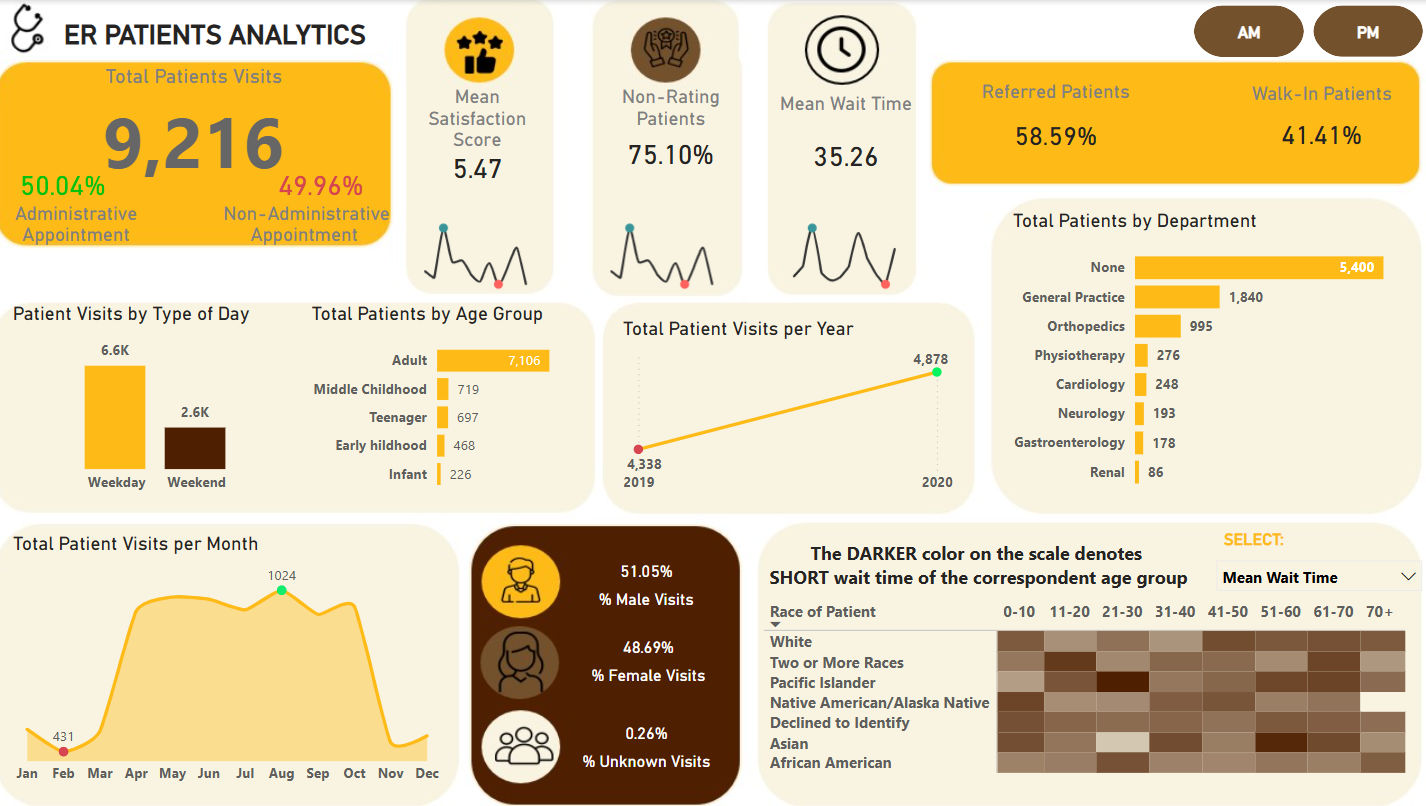

The page's visual inventory and layout, read from the dashboard file:
{"tool":"powerbi","page":{"name":"Page 1","canvas":[1280,720],"ordinal":0},"visuals":[{"type":"pivotTable","fields":{"Values":["Calculations.Mean Wait Time"],"Rows":["Patients Dataset.patient_race"],"Columns":["Patients Dataset.Age Bucket"]},"box":[678.8,529.3,587.6,191.2],"z":0},{"type":"slicer","fields":{"Values":["Satisfaction/Wait.Satisfaction/Wait"]},"box":[1076.4,488.8,203.9,60.8],"z":1000},{"type":"barChart","fields":{"Category":["Patients Dataset.Age Group"],"Y":["Calculations.Total Patients"]},"box":[276.3,269,253.4,178.6],"z":2000},{"type":"lineChart","title":"Total Patient Visits per Month","fields":{"Category":["Date.Month"],"Y":["Calculations.Total Patients","Calculations.Values Min/Max Point (Month)"]},"box":[9.7,474.1,392.1,232.8],"z":3000},{"type":"lineChart","title":"Total Patient Visits per Year","fields":{"Category":["Date.Year"],"Y":["Calculations.Total Patients"]},"box":[553.8,282.3,304,165.3],"z":4000},{"type":"clusteredBarChart","title":"Total Patients by Department","fields":{"Y":["Calculations.Total Patients"],"Category":["Patients Dataset.department_referral"]},"box":[900.4,186.2,377.4,260.9],"z":5000},{"type":"card","fields":{"Values":["Calculations.Heatmap Caption"]},"box":[678.8,466,392.6,73.4],"z":6000},{"type":"card","title":"Mean Satisfaction Score","fields":{"Values":["Calculations.Mean Satisfaction Score"]},"box":[364.3,76,129.1,90.5],"z":7000},{"type":"card","title":"Total Patients Visits","fields":{"Values":["Calculations.Total Patients"]},"box":[0,56.7,352.3,109.8],"z":8000},{"type":"card","title":"Mean Wait Time","fields":{"Values":["Calculations.Mean Wait Time"]},"box":[692.5,82,129.1,92.9],"z":9000},{"type":"card","fields":{"Values":["Calculations.Non-Aministrator %"]},"box":[240.1,133.9,97.7,62.7],"z":10000},{"type":"card","title":"Non-Rating Patients ","fields":{"Values":["Calculations.% of Non-Rating Patients"]},"box":[523.6,76,155.6,84.5],"z":11000},{"type":"card","fields":{"Values":["Calculations.% of Non-Referred Patients"]},"box":[846.9,82.3,193.2,75.8],"z":12000,"group":"g1"},{"type":"card","fields":{"Values":["Calculations.Aministrator %"]},"box":[9.7,136.3,97.7,56.7],"z":12000},{"type":"textbox","box":[872.6,66.4,141.8,69.7],"z":13000,"group":"g1"},{"type":"textbox","box":[0,174.9,142.4,70],"z":13000},{"type":"group","id":"g1","title":"Group 2","box":[846.9,66.4,430.7,91.7],"z":14000},{"type":"card","fields":{"Values":["Calculations.% of Referred Patients"]},"box":[1084.1,82.3,193,75],"z":14000,"group":"g1"},{"type":"textbox","box":[191.8,174.9,170.1,70],"z":15000},{"type":"textbox","box":[1086.6,67.6,188.3,69.7],"z":16000,"group":"g1"},{"type":"clusteredColumnChart","title":"Patient Visits by Type of Day","fields":{"Y":["Calculations.Total Patients"],"Category":["Date.Weektype"]},"box":[9.7,269,266.6,178.6],"z":16000},{"type":"advancedSlicerVisual","fields":{"Values":["Patients Dataset.AM/PM"]},"box":[1062.4,0,215.3,57],"z":17000},{"type":"card","fields":{"Values":["Calculations.% Female Visits"]},"box":[513.9,555,133.9,61.5],"z":18000},{"type":"card","fields":{"Values":["Calculations.% Male Visits"]},"box":[523.6,487.4,112.2,61.5],"z":19000},{"type":"card","fields":{"Values":["Calculations.% Unknown Gender Visits"]},"box":[507.9,633.4,143.6,59.1],"z":20000},{"type":"PBI_CV_25997FEB_F466_44FA_B562_AC4063283C4C","fields":{"measure":["Calculations.Mean Satisfaction Score"],"axis":["Date.Month"]},"box":[364.3,185.8,130.3,78.4],"z":21000},{"type":"PBI_CV_25997FEB_F466_44FA_B562_AC4063283C4C","fields":{"measure":["Calculations.Mean Satisfaction Score"],"axis":["Date.Month"]},"box":[529.6,185.8,130.3,78.4],"z":22000},{"type":"PBI_CV_25997FEB_F466_44FA_B562_AC4063283C4C","fields":{"axis":["Date.Month"],"measure":["Calculations.% of Non-Rating Patients"]},"box":[692.5,185.8,130.3,78.4],"z":23000},{"type":"textbox","box":[1089,466,76,41.8],"z":24000},{"type":"textbox","box":[55.7,12.7,300.1,44.3],"z":25000}]}

Visuals, with their boxes in screenshot pixels (x1, y1, x2, y2), scaled from the page's 1280x720 canvas onto the 1426x806 screenshot:
pivotTable - Calculations.Mean Wait Time x Patients Dataset.patient_race: locate(756, 593, 1411, 805)
slicer - Satisfaction/Wait.Satisfaction/Wait: locate(1199, 547, 1425, 615)
barChart - Patients Dataset.Age Group x Calculations.Total Patients: locate(308, 301, 590, 501)
"Total Patient Visits per Month" lineChart: locate(11, 531, 448, 791)
"Total Patient Visits per Year" lineChart: locate(617, 316, 956, 501)
"Total Patients by Department" clusteredBarChart: locate(1003, 208, 1424, 501)
card - Calculations.Heatmap Caption: locate(756, 522, 1194, 604)
"Mean Satisfaction Score" card: locate(406, 85, 550, 186)
"Total Patients Visits" card: locate(0, 63, 392, 186)
"Mean Wait Time" card: locate(771, 92, 915, 196)
card - Calculations.Non-Aministrator %: locate(267, 150, 376, 220)
"Non-Rating Patients " card: locate(583, 85, 757, 180)
card - Calculations.% of Non-Referred Patients: locate(943, 92, 1159, 177)
card - Calculations.Aministrator %: locate(11, 153, 120, 216)
textbox: locate(972, 74, 1130, 152)
textbox: locate(0, 196, 159, 274)
"Group 2" group: locate(943, 74, 1423, 177)
card - Calculations.% of Referred Patients: locate(1208, 92, 1423, 176)
textbox: locate(214, 196, 403, 274)
textbox: locate(1211, 76, 1420, 154)
"Patient Visits by Type of Day" clusteredColumnChart: locate(11, 301, 308, 501)
advancedSlicerVisual - Patients Dataset.AM/PM: locate(1184, 0, 1423, 64)
card - Calculations.% Female Visits: locate(573, 621, 722, 690)
card - Calculations.% Male Visits: locate(583, 546, 708, 614)
card - Calculations.% Unknown Gender Visits: locate(566, 709, 726, 775)
PBI_CV_25997FEB_F466_44FA_B562_AC4063283C4C - Calculations.Mean Satisfaction Score x Date.Month: locate(406, 208, 551, 296)
PBI_CV_25997FEB_F466_44FA_B562_AC4063283C4C - Calculations.Mean Satisfaction Score x Date.Month: locate(590, 208, 735, 296)
PBI_CV_25997FEB_F466_44FA_B562_AC4063283C4C - Date.Month x Calculations.% of Non-Rating Patients: locate(771, 208, 917, 296)
textbox: locate(1213, 522, 1298, 568)
textbox: locate(62, 14, 396, 64)
